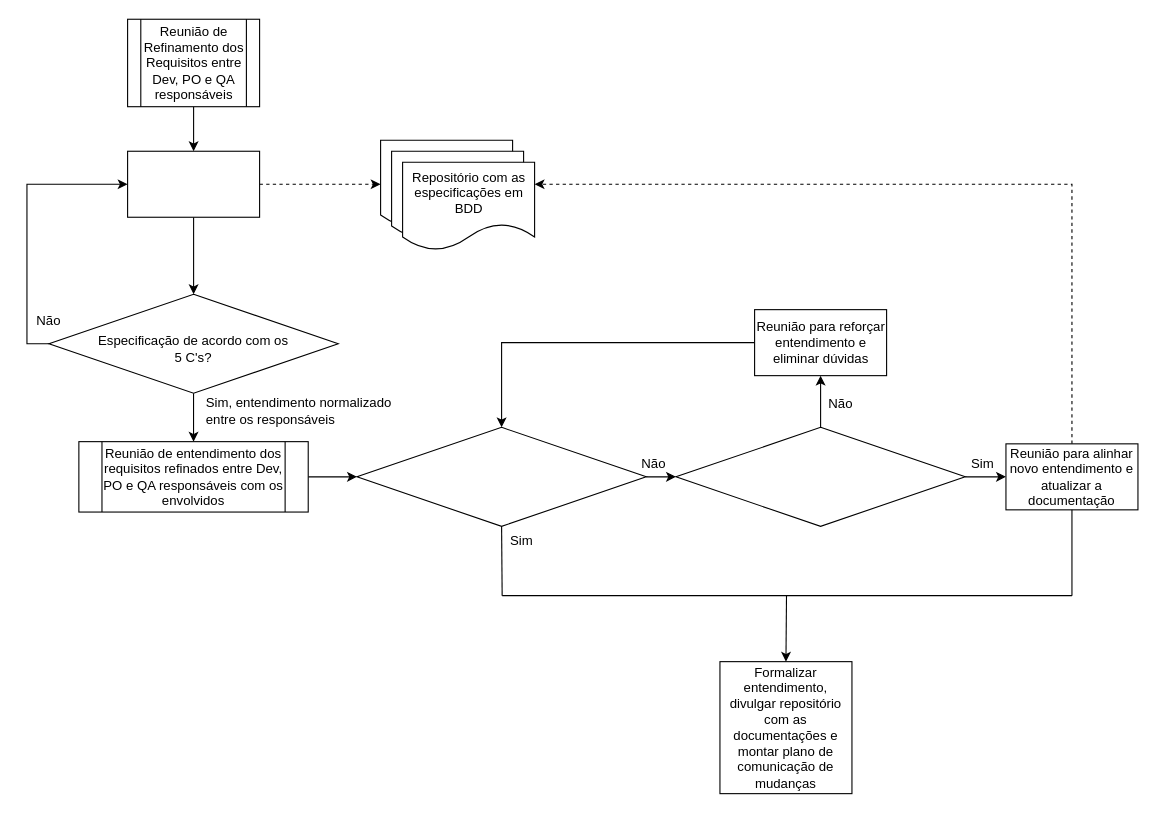
The diagram is 1157 pixels wide and 813 high, and some of its shapes have lost their labels. The centre of each missing label's shape, as x and y in pixels:
"Entendimento realizado e equalizado?" goes at [501,476].
"Especificação dos Requisitos da feature priorizada com BDD" goes at [193,183].
"Necessário atualizar documentação?" goes at [820,476].
